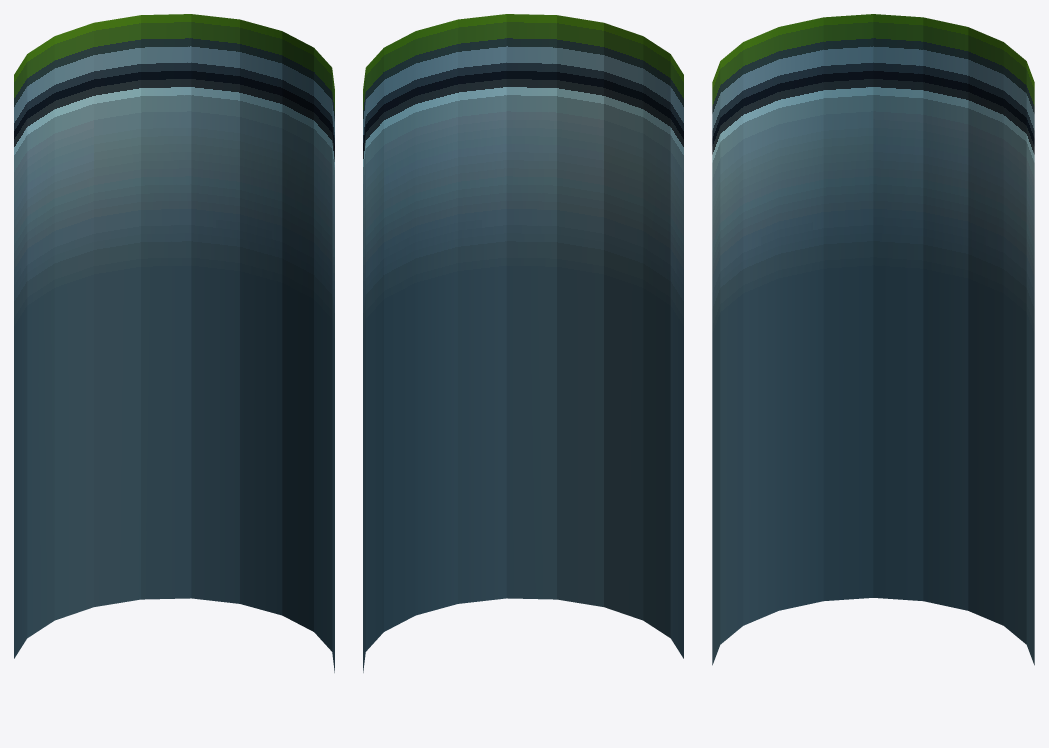
The model's file is glf_cup__glf_cup_side.glb.
3 views of the same model, side by side, from view 1: azimuth 30°, elevation 25°; view 2: azimuth 150°, elevation 25°; view 3: azimuth 270°, elevation 25° (orthographic).
Parts seen in each view (by area): view 1: polygon0; view 2: polygon0; view 3: polygon0.
Boxes of the visible parts, left/top/right/bottom form: polygon0: left=14, top=14, right=334, bottom=672; polygon0: left=363, top=14, right=683, bottom=672; polygon0: left=712, top=14, right=1034, bottom=665.
Bounding box in the file's own units: 3 × 6 × 3.
1 material, 1 textured.
